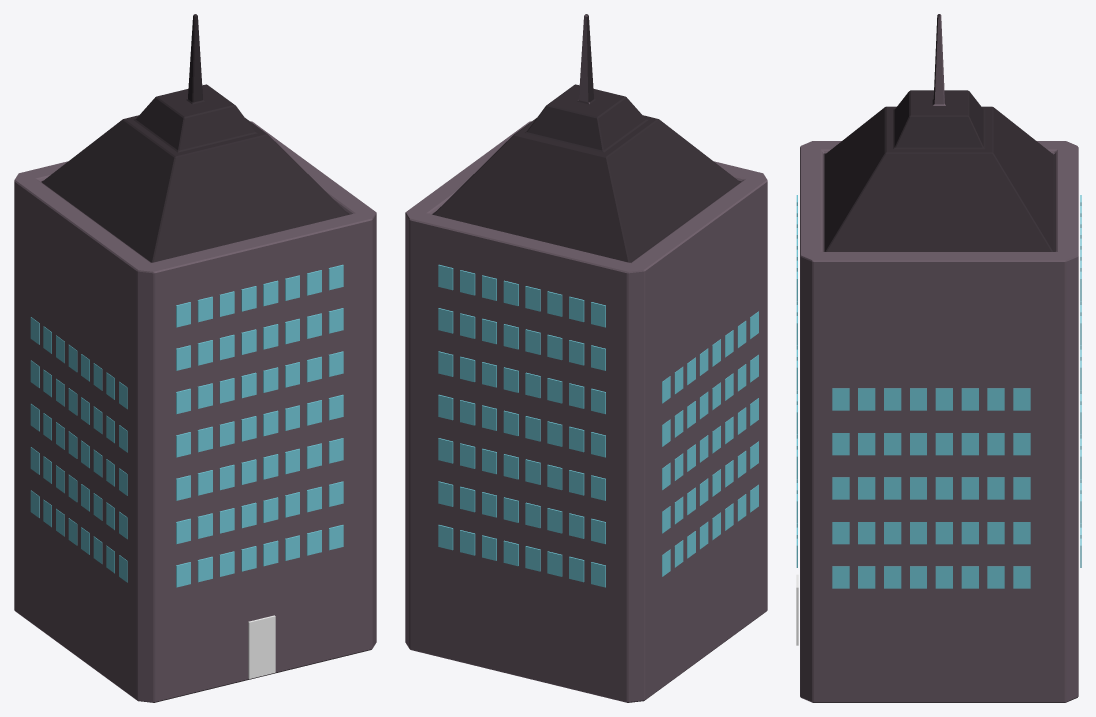
The model's file is Building_Skyscraper.fbx.
3 views of the same model, side by side, from view 1: azimuth 30°, elevation 25°; view 2: azimuth 150°, elevation 25°; view 3: azimuth 270°, elevation 25° (orthographic). The views are drawn at different scales.
Parts seen in each view (by area): view 1: Cylinder.002, Cube.005, Cube.015, Cube.006; view 2: Cylinder.002, Cube.005, Cube.015; view 3: Cylinder.002, Cube.015, Cube.005.
Boxes of the visible parts, box(x1,y1,x2,y2) form: Cylinder.002: box(14, 14, 376, 702); Cube.005: box(176, 264, 343, 587); Cube.015: box(30, 317, 127, 582); Cube.006: box(248, 615, 275, 678); Cylinder.002: box(405, 14, 767, 702); Cube.005: box(438, 264, 605, 587); Cube.015: box(662, 311, 758, 576); Cylinder.002: box(800, 14, 1078, 702); Cube.015: box(832, 388, 1030, 588); Cube.005: box(796, 195, 1081, 567).
Bounding box in the file's own units: 201 × 488 × 201.
